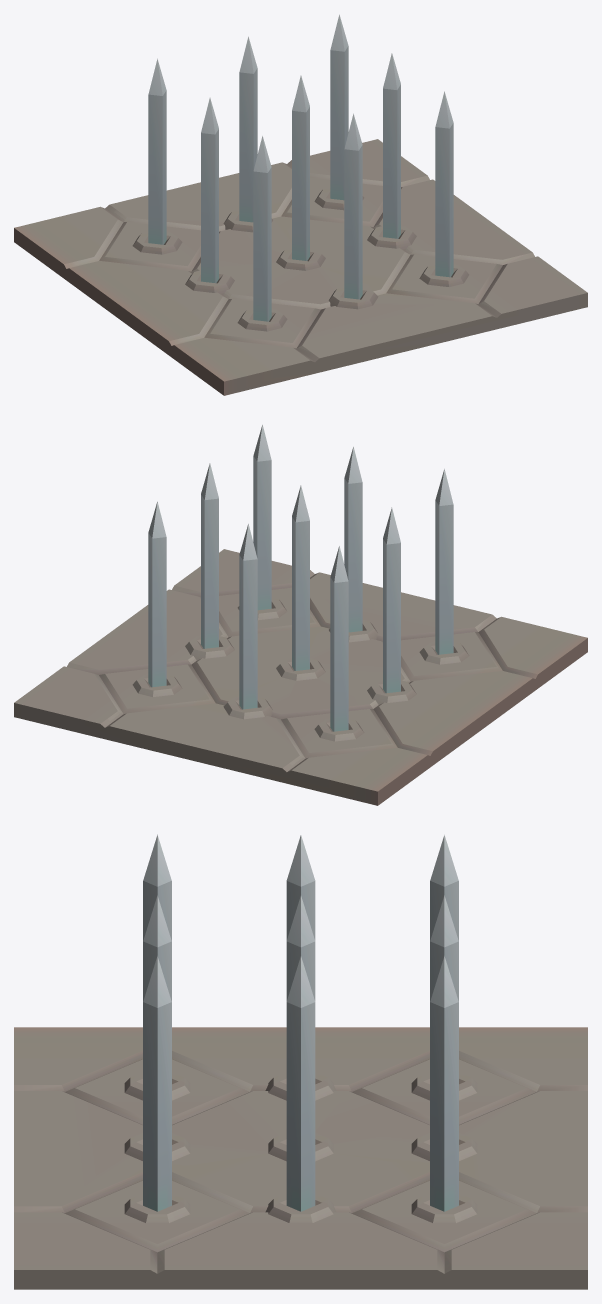
The model's file is floor_tile_big_spikes.glb.
3 views of the same model, one above another, from view 1: azimuth 30°, elevation 25°; view 2: azimuth 150°, elevation 25°; view 3: azimuth 270°, elevation 25° (orthographic). The views are drawn at different scales.
Visible parts, largest first — view 1: floor_tile_big_spikes, spikes; view 2: floor_tile_big_spikes, spikes; view 3: floor_tile_big_spikes, spikes.
Part boxes in pixels (x1,y1,x2,y2): floor_tile_big_spikes: (14,139,587,395); spikes: (148,14,453,321); floor_tile_big_spikes: (14,549,587,805); spikes: (148,424,453,731); floor_tile_big_spikes: (14,1027,587,1289); spikes: (143,834,458,1211).
Size of the model in its own units: 4 by 2.1 by 4.
Materials: 1 (1 with a texture image).
